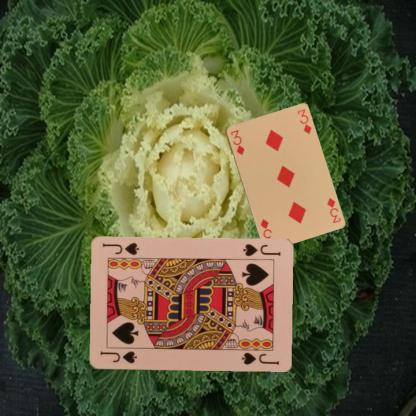3d: (228, 127, 246, 156), (324, 195, 342, 224)
Js: (98, 348, 138, 366), (240, 242, 281, 258)
